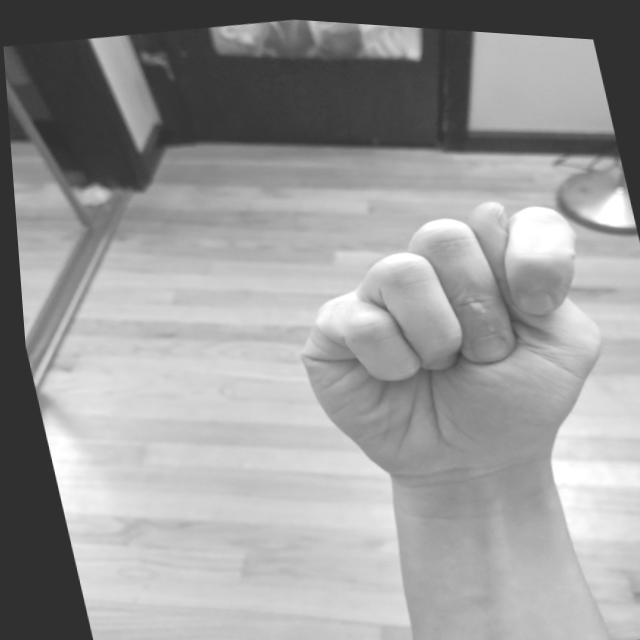T: (252, 161, 639, 508)
